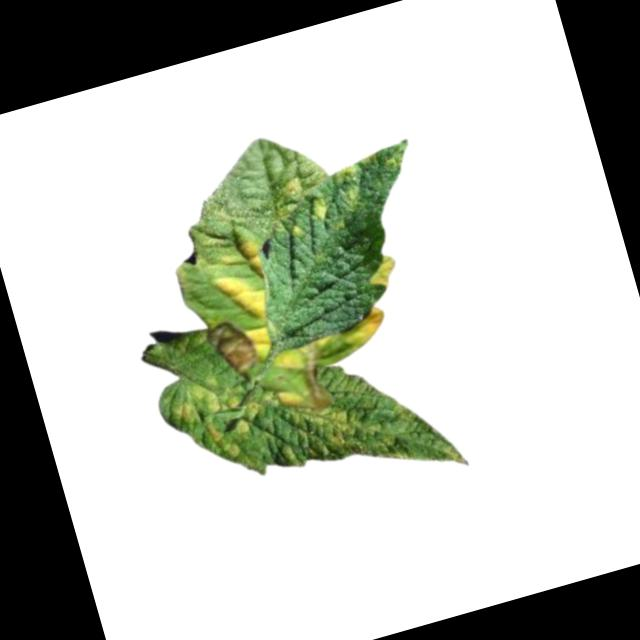Leaf_Mold: (166, 371, 267, 470), (284, 387, 371, 470), (207, 265, 274, 330), (338, 304, 391, 350), (223, 229, 269, 282), (326, 160, 369, 212), (271, 341, 313, 376), (240, 318, 273, 362), (362, 252, 400, 289), (270, 172, 303, 200), (304, 195, 332, 226)
